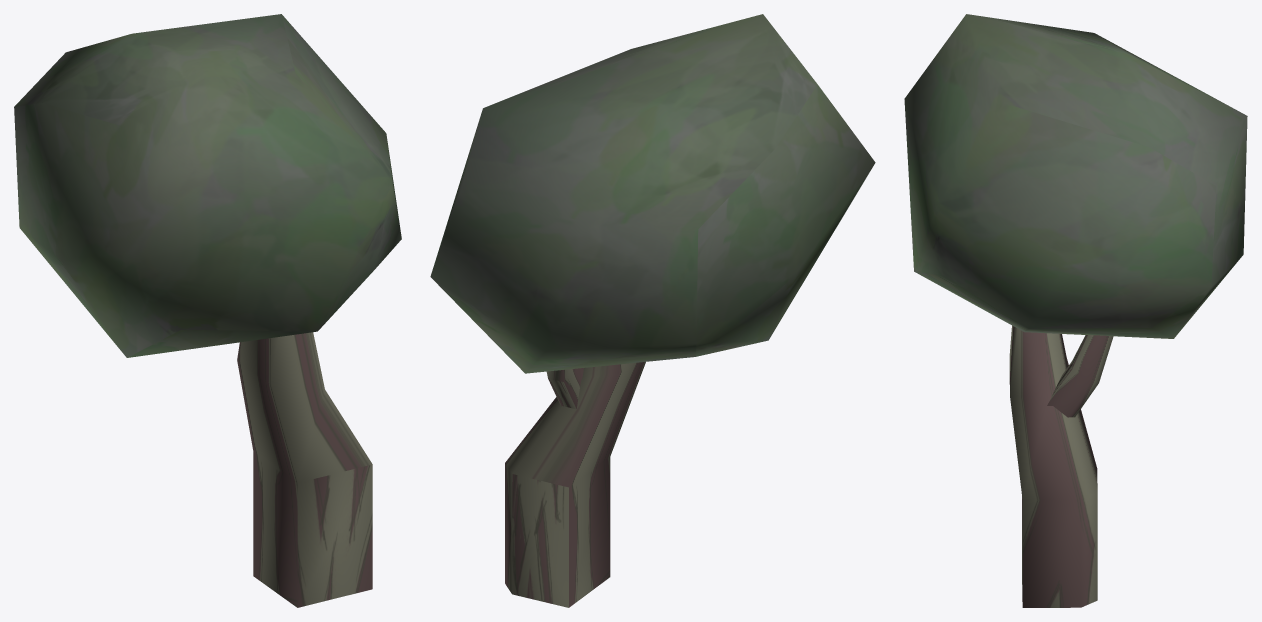
Rendered from Bush02.fbx.
The picture shows the model from 3 angles, left to right: view 1: azimuth 30°, elevation 25°; view 2: azimuth 150°, elevation 25°; view 3: azimuth 270°, elevation 25°; orthographic projection. The views are drawn at different scales.
Parts seen in each view (by area): view 1: Bush02; view 2: Bush02; view 3: Bush02.
Boxes of the visible parts, x1,y1,x2,y2 form: Bush02: (14, 14, 401, 607); Bush02: (430, 14, 875, 607); Bush02: (904, 14, 1247, 607).
Size of the model in its own units: 0.4385 by 0.7269 by 0.4438.
Materials: 2 (2 with a texture image).
